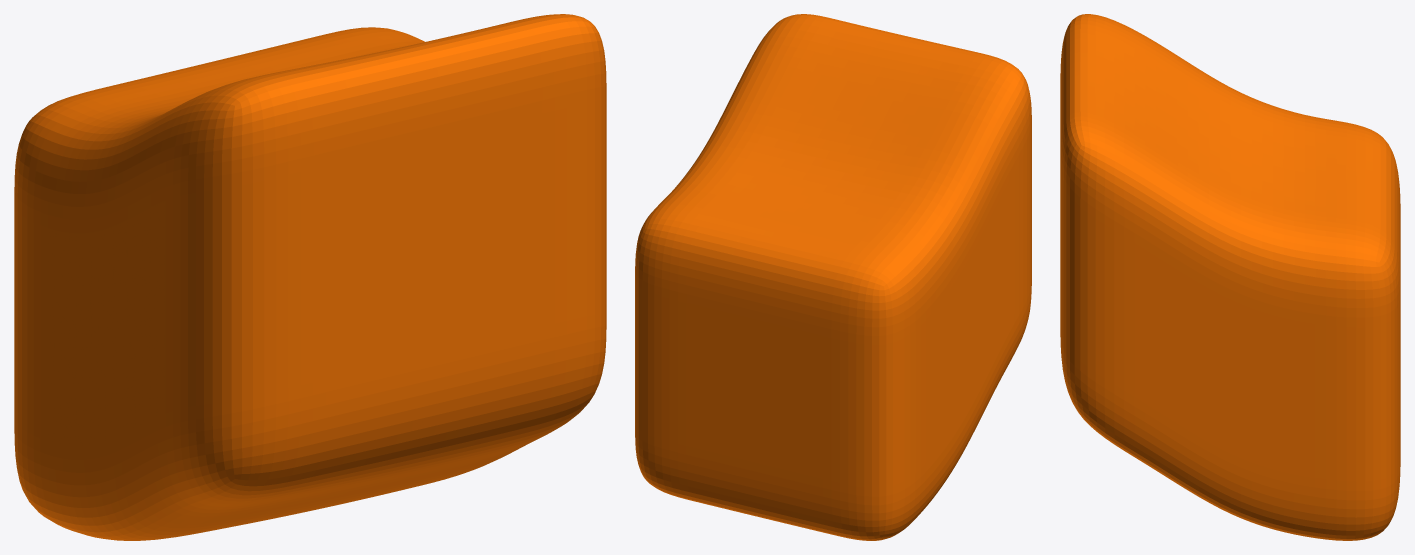
3 renders of one model, left to right at view 1: azimuth 30°, elevation 25°; view 2: azimuth 150°, elevation 25°; view 3: azimuth 270°, elevation 25°, orthographic. The views are drawn at different scales.
Parts seen in each view (by area): view 1: smooth_1_base.003; view 2: smooth_1_base.003; view 3: smooth_1_base.003.
Boxes of the visible parts, x1=… form: smooth_1_base.003: x1=14, y1=14, x2=606, y2=540; smooth_1_base.003: x1=635, y1=14, x2=1031, y2=540; smooth_1_base.003: x1=1060, y1=14, x2=1400, y2=540.
Bounding box in the file's own units: 60 × 81.14 × 60.
